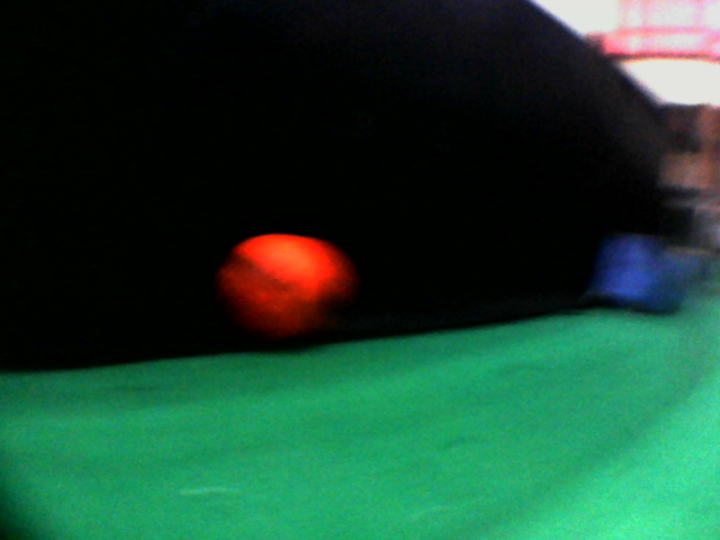bola: (200, 217, 364, 351)
